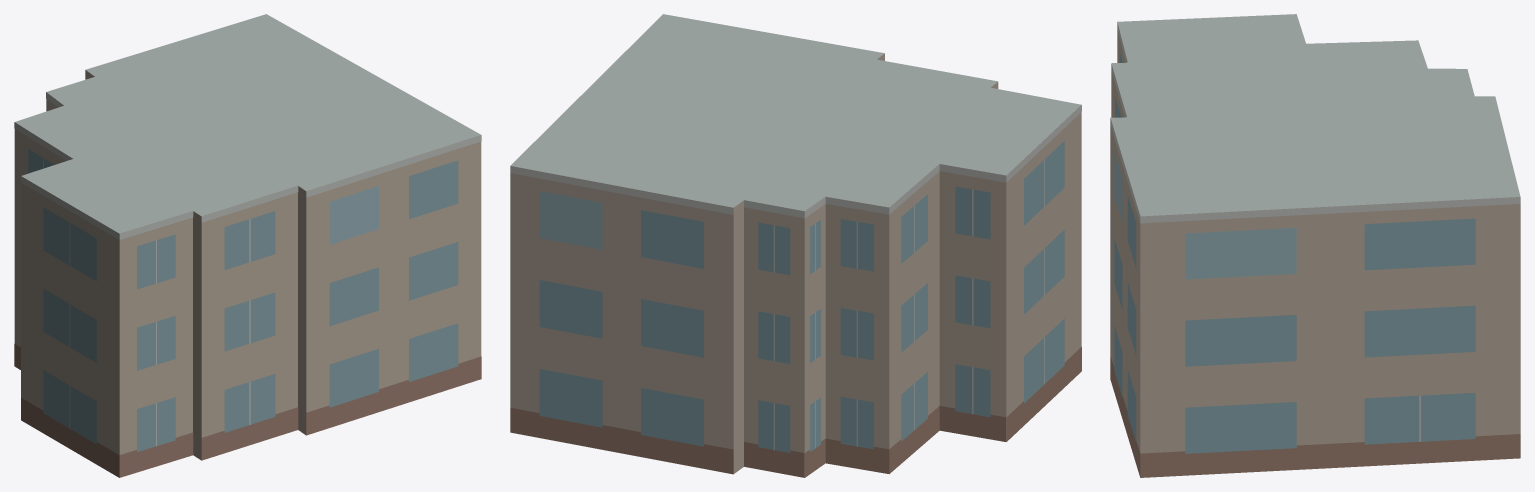
File: survey-upis-32483580.glb
3 renders of one model, left to right at view 1: azimuth 30°, elevation 25°; view 2: azimuth 150°, elevation 25°; view 3: azimuth 270°, elevation 25°, orthographic. The views are drawn at different scales.
Visible parts, largest first — view 1: survey-upis-32483580.tmp; view 2: survey-upis-32483580.tmp; view 3: survey-upis-32483580.tmp.
Part boxes in pixels (box(x1,y1,x2,y2)): survey-upis-32483580.tmp: box(14, 14, 481, 477); survey-upis-32483580.tmp: box(510, 14, 1081, 477); survey-upis-32483580.tmp: box(1110, 14, 1520, 477).
Size of the model in its own units: 15.2 by 9.15 by 13.02.
